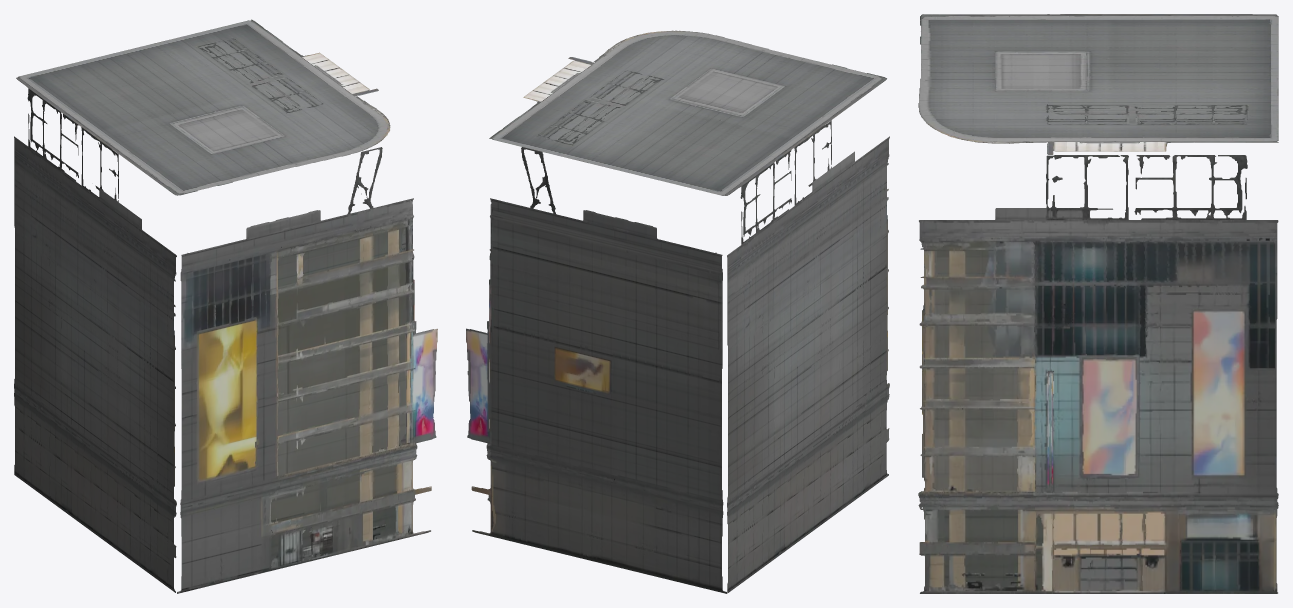
The model's file is city_dept.1.glb.
3 views of the same model, side by side, from view 1: azimuth 30°, elevation 25°; view 2: azimuth 150°, elevation 25°; view 3: azimuth 270°, elevation 25° (orthographic). The views are drawn at different scales.
Parts seen in each view (by area): view 1: lod; view 2: lod; view 3: lod.
Part boxes in pixels (<box>): lod: <box>14,19,437,593</box>; lod: <box>466,30,889,593</box>; lod: <box>918,14,1278,593</box>.
Bounding box in the file's own units: 0.6883 × 1 × 0.7444.
1 material, 1 textured.
